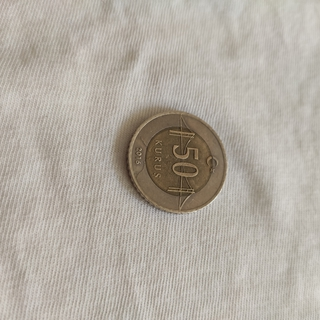50KURUS: (124, 109, 228, 215)
